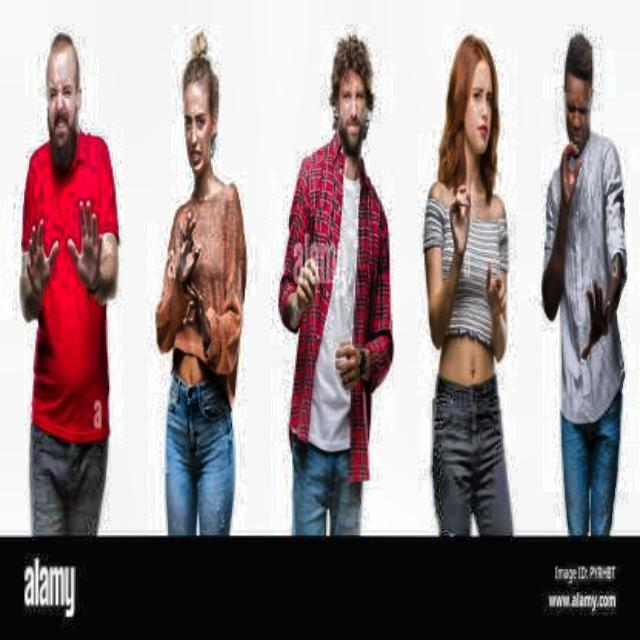disgust: (438, 25, 514, 181), (325, 35, 381, 168), (180, 30, 224, 183), (43, 28, 84, 183), (563, 27, 598, 157)
